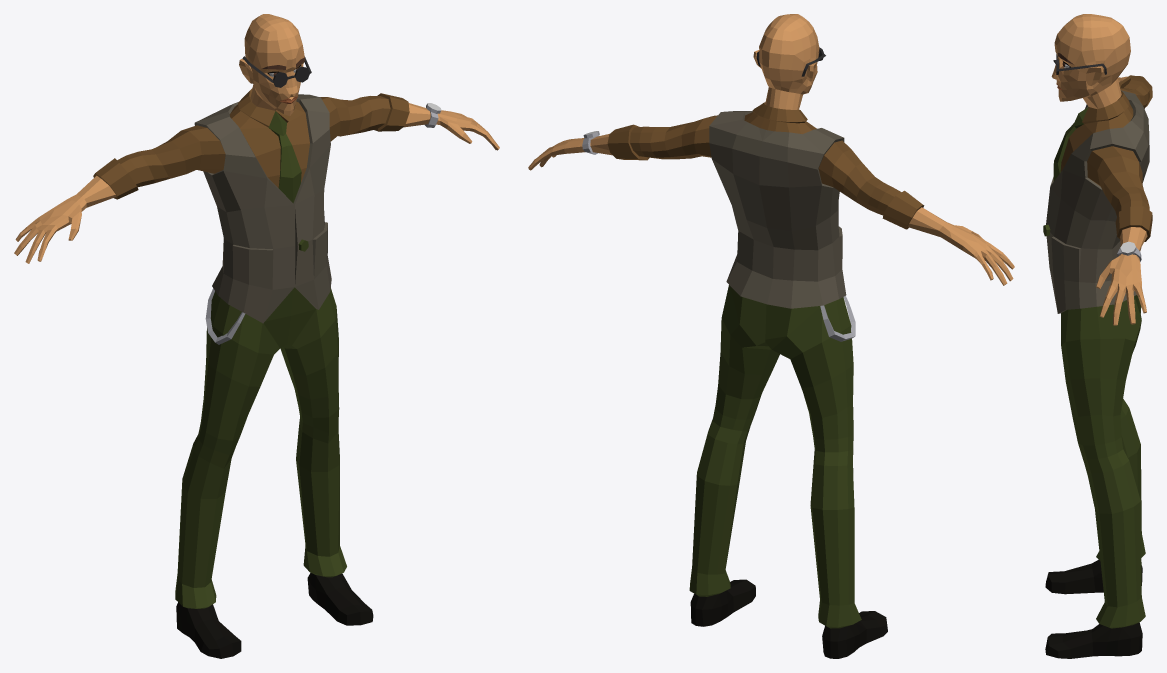
Rendered from City_M_2.fbx.
3 renders of one model, left to right at view 1: azimuth 30°, elevation 25°; view 2: azimuth 150°, elevation 25°; view 3: azimuth 270°, elevation 25°, orthographic.
Visible parts, largest first — view 1: City_M_2; view 2: City_M_2; view 3: City_M_2, City_M_2_Watch, City_M_2_Glasses.
Part boxes in pixels (<box>): City_M_2: <box>14,14,499,658</box>; City_M_2: <box>528,14,1014,658</box>; City_M_2: <box>1045,14,1152,658</box>; City_M_2_Watch: <box>1117,241,1141,261</box>; City_M_2_Glasses: <box>1053,54,1106,74</box>.
Size of the model in its own units: 149 by 180 by 29.71.
1 material, 1 textured.
